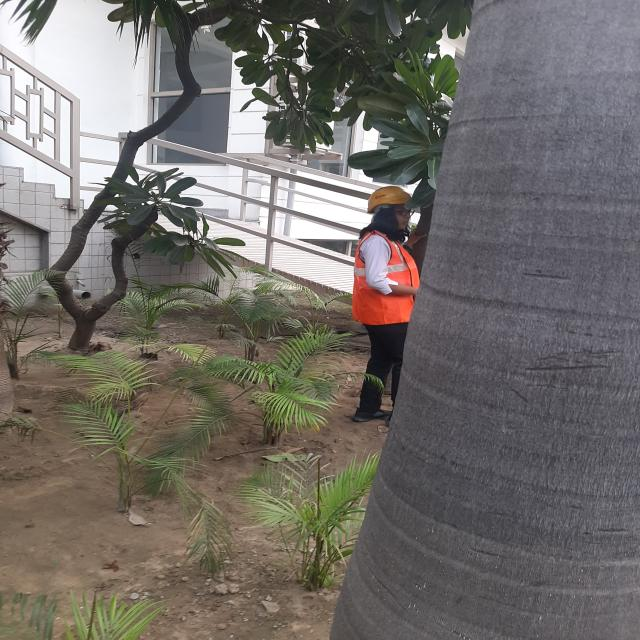safe: (346, 185, 416, 420)
